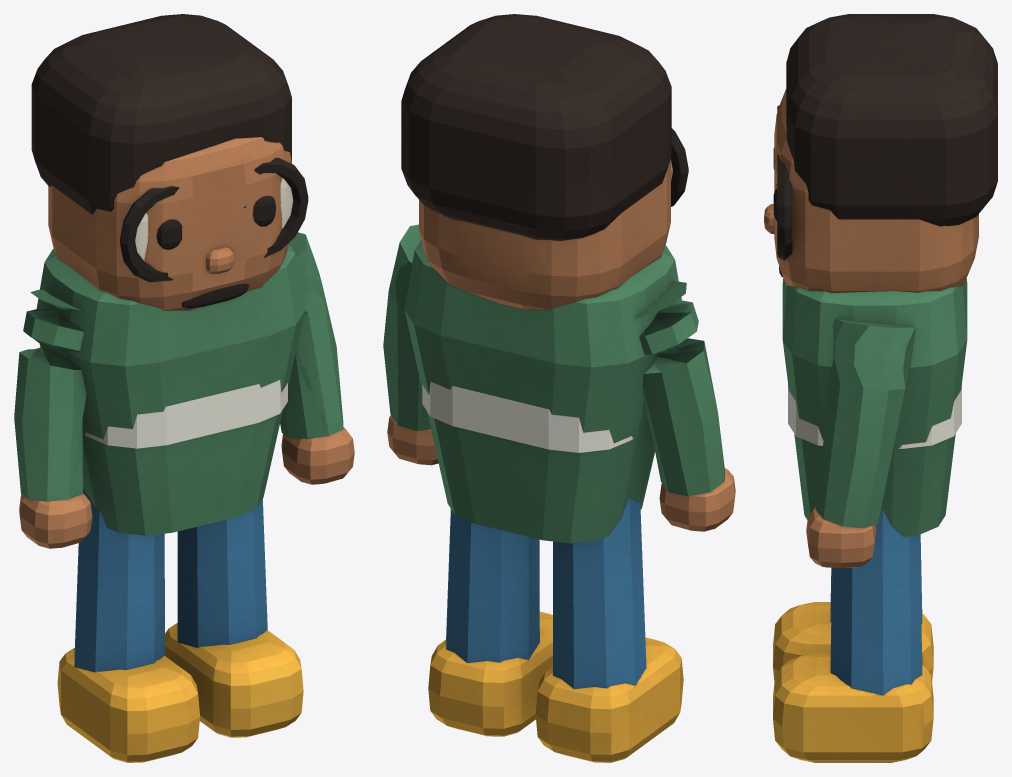
The model's file is d3_chuck.glb.
The picture shows the model from 3 angles, left to right: view 1: azimuth 30°, elevation 25°; view 2: azimuth 150°, elevation 25°; view 3: azimuth 270°, elevation 25°; orthographic projection. The views are drawn at different scales.
Visible parts, largest first — view 1: Chuck; view 2: Chuck; view 3: Chuck.
Part boxes in pixels (x1,y1,x2,y2): Chuck: [14, 14, 354, 762]; Chuck: [383, 14, 735, 762]; Chuck: [764, 14, 997, 762].
Bounding box in the file's own units: 0.674 × 1.35 × 0.4193.
Materials: 1 (1 with a texture image).
